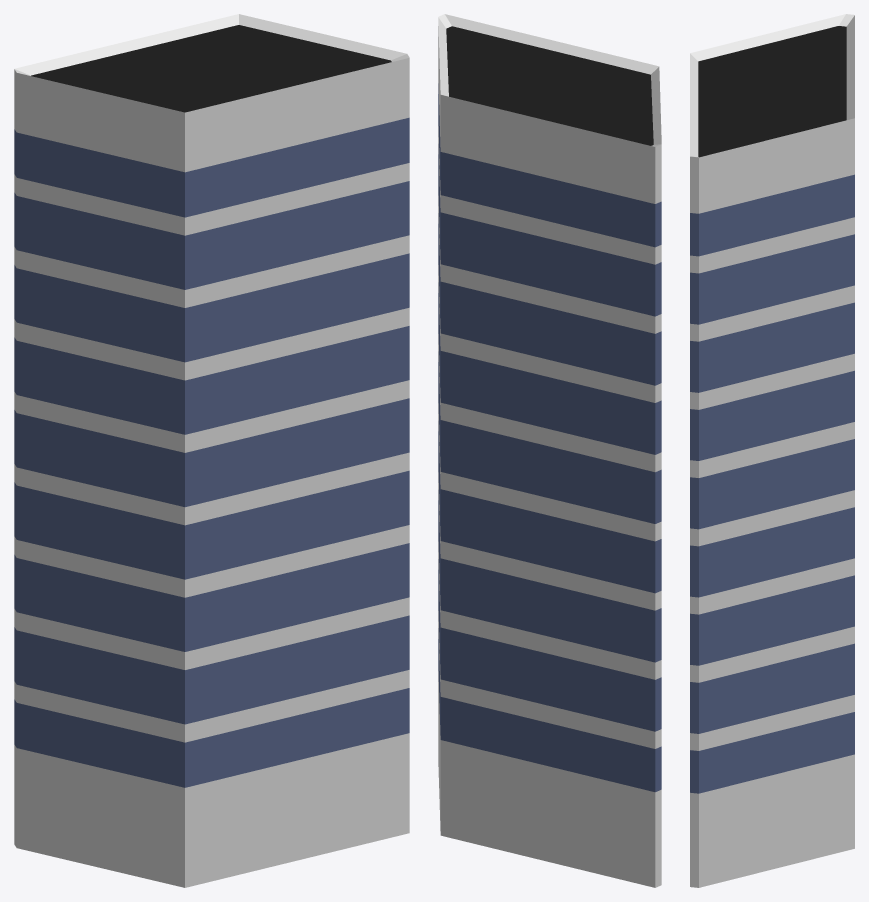
File: Block3.fbx
The picture shows the model from 3 angles, left to right: view 1: azimuth 30°, elevation 25°; view 2: azimuth 150°, elevation 25°; view 3: azimuth 270°, elevation 25°; orthographic projection. The views are drawn at different scales.
Parts seen in each view (by area): view 1: Cube.320; view 2: Cube.320; view 3: Cube.320.
Boxes of the visible parts, x1,y1,x2,y2 form: Cube.320: (14, 14, 409, 887); Cube.320: (438, 14, 661, 887); Cube.320: (690, 14, 854, 887).
Size of the model in its own units: 4245 by 10076 by 2062.
